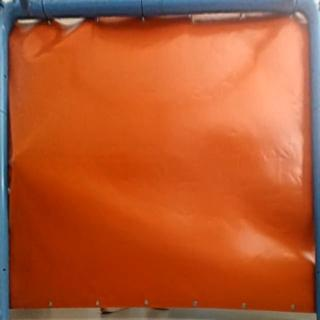Hit-hRxx: (7, 151, 23, 171)
